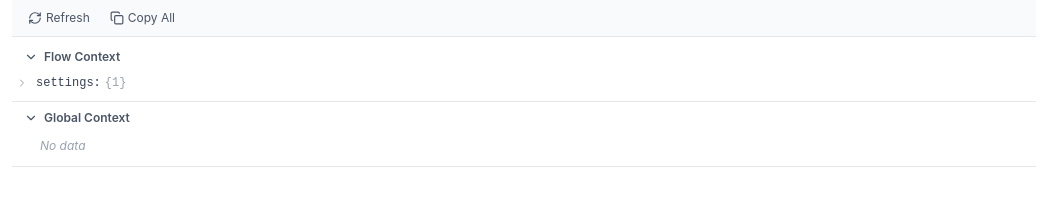
Test: ContextTab › expand/collapse › expands an object when clicking its chevron
The image size is (1048, 204).
Note: Click to expand
Click the button with test id "context-tree-toggle-settings": click(65, 83) [12,73,1036,93]
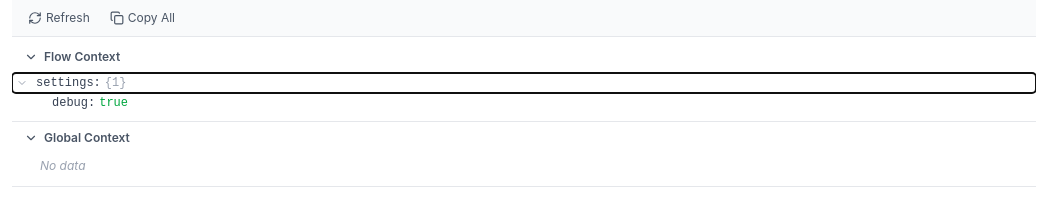
Expected: the text "true" is shown, [99,95,128,111]
